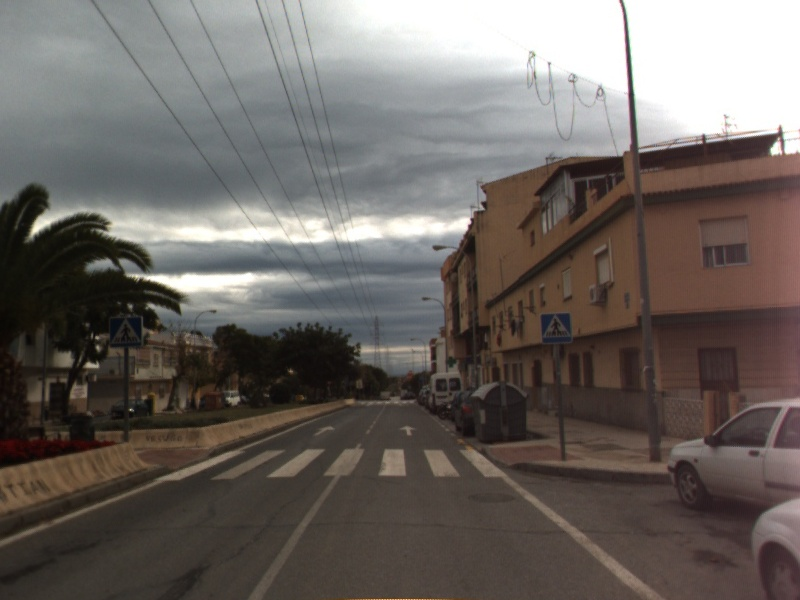STRAIGHT: (311, 423, 337, 438), (398, 423, 419, 438)
